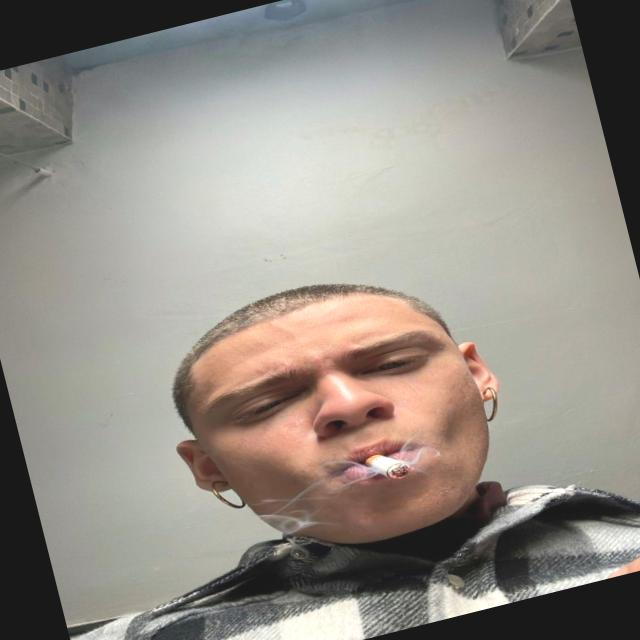smoke: (337, 426, 443, 506)
